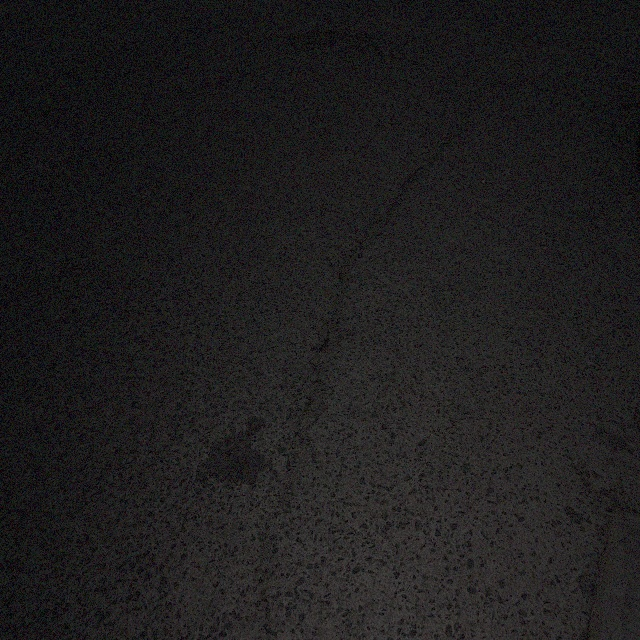pothole: (306, 34, 357, 53)
